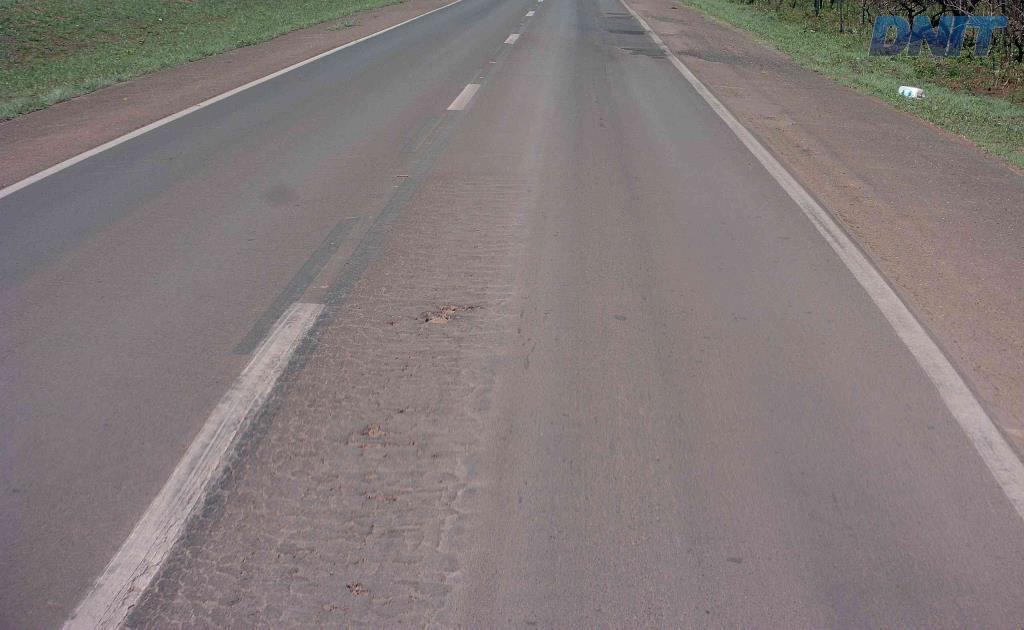crack: (142, 400, 284, 629), (274, 311, 334, 396), (418, 302, 483, 324)
pothole: (406, 297, 469, 329)
